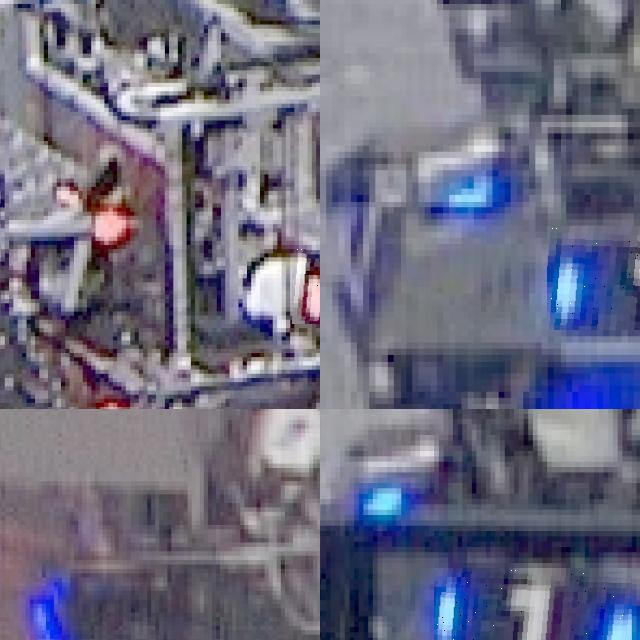B1: (434, 568, 631, 640), (547, 225, 640, 330)
R2: (292, 245, 320, 324)
